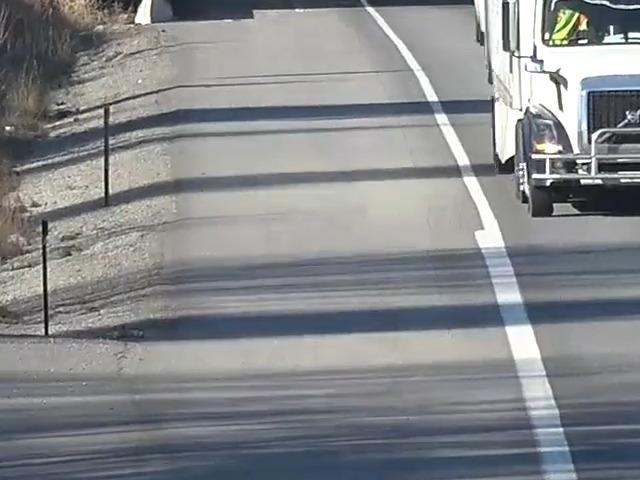truck: (473, 0, 640, 206)
